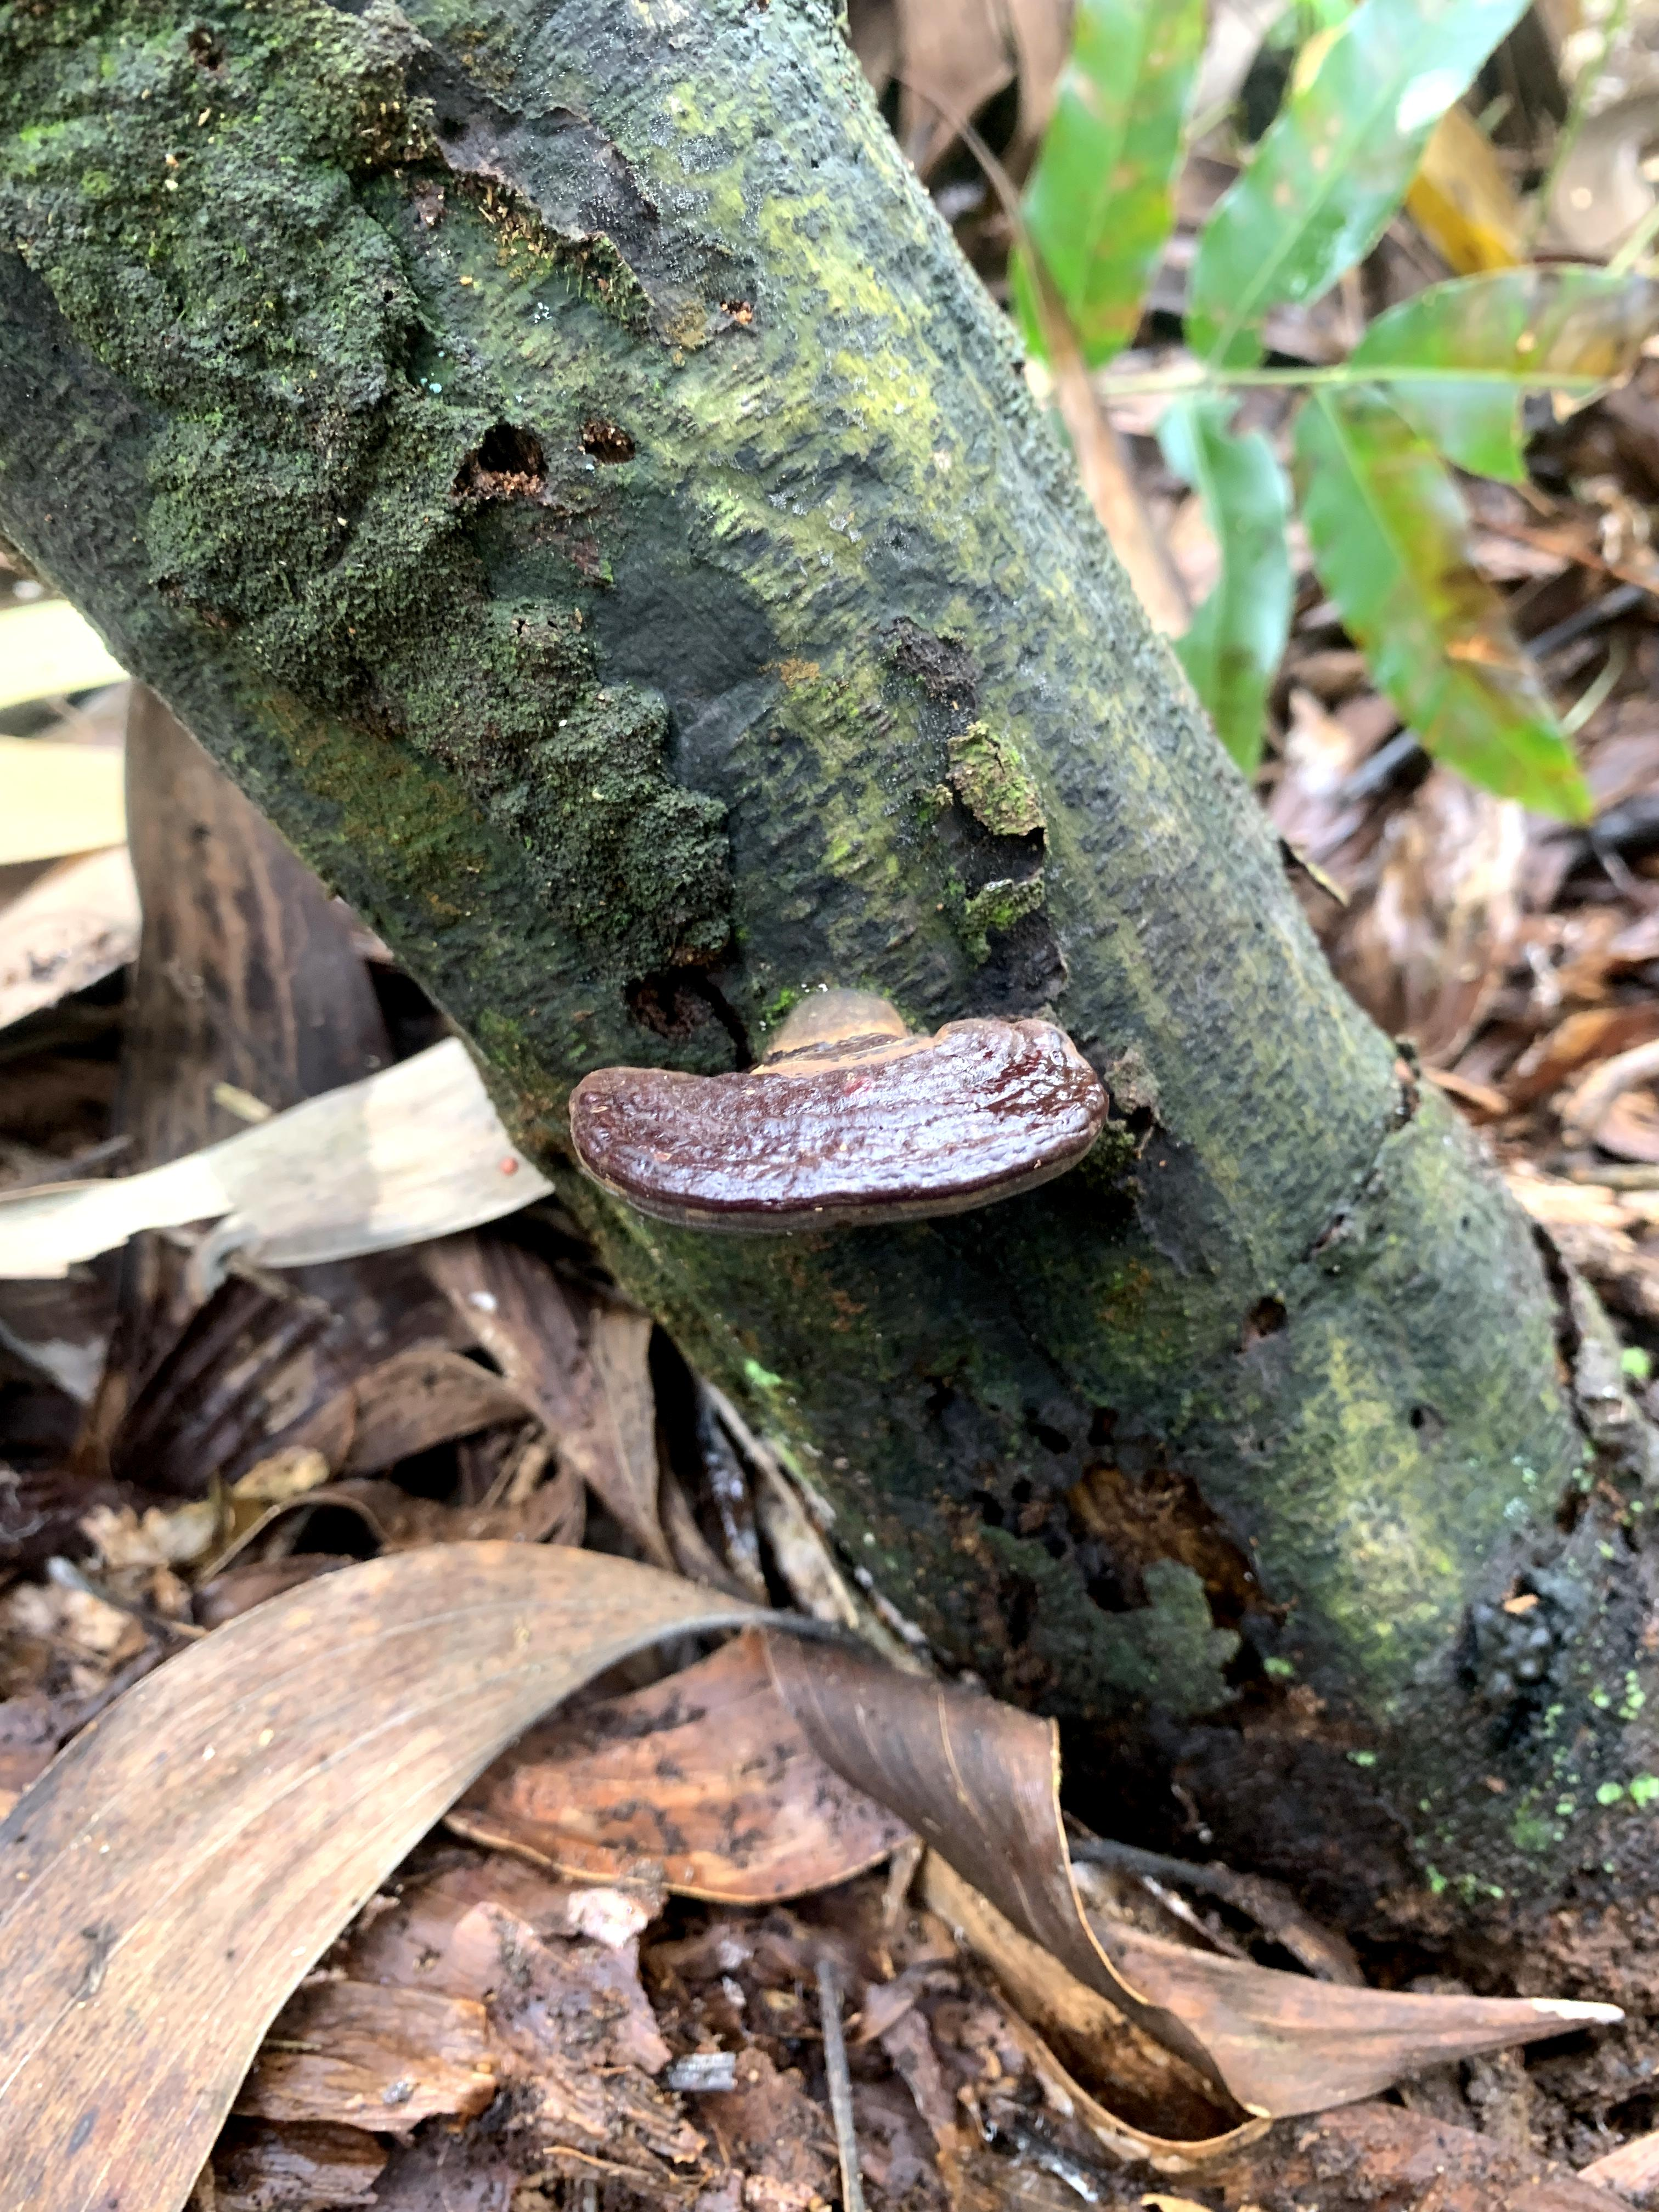Ganoderma - Fruit Body: (538, 972, 1131, 1231)
